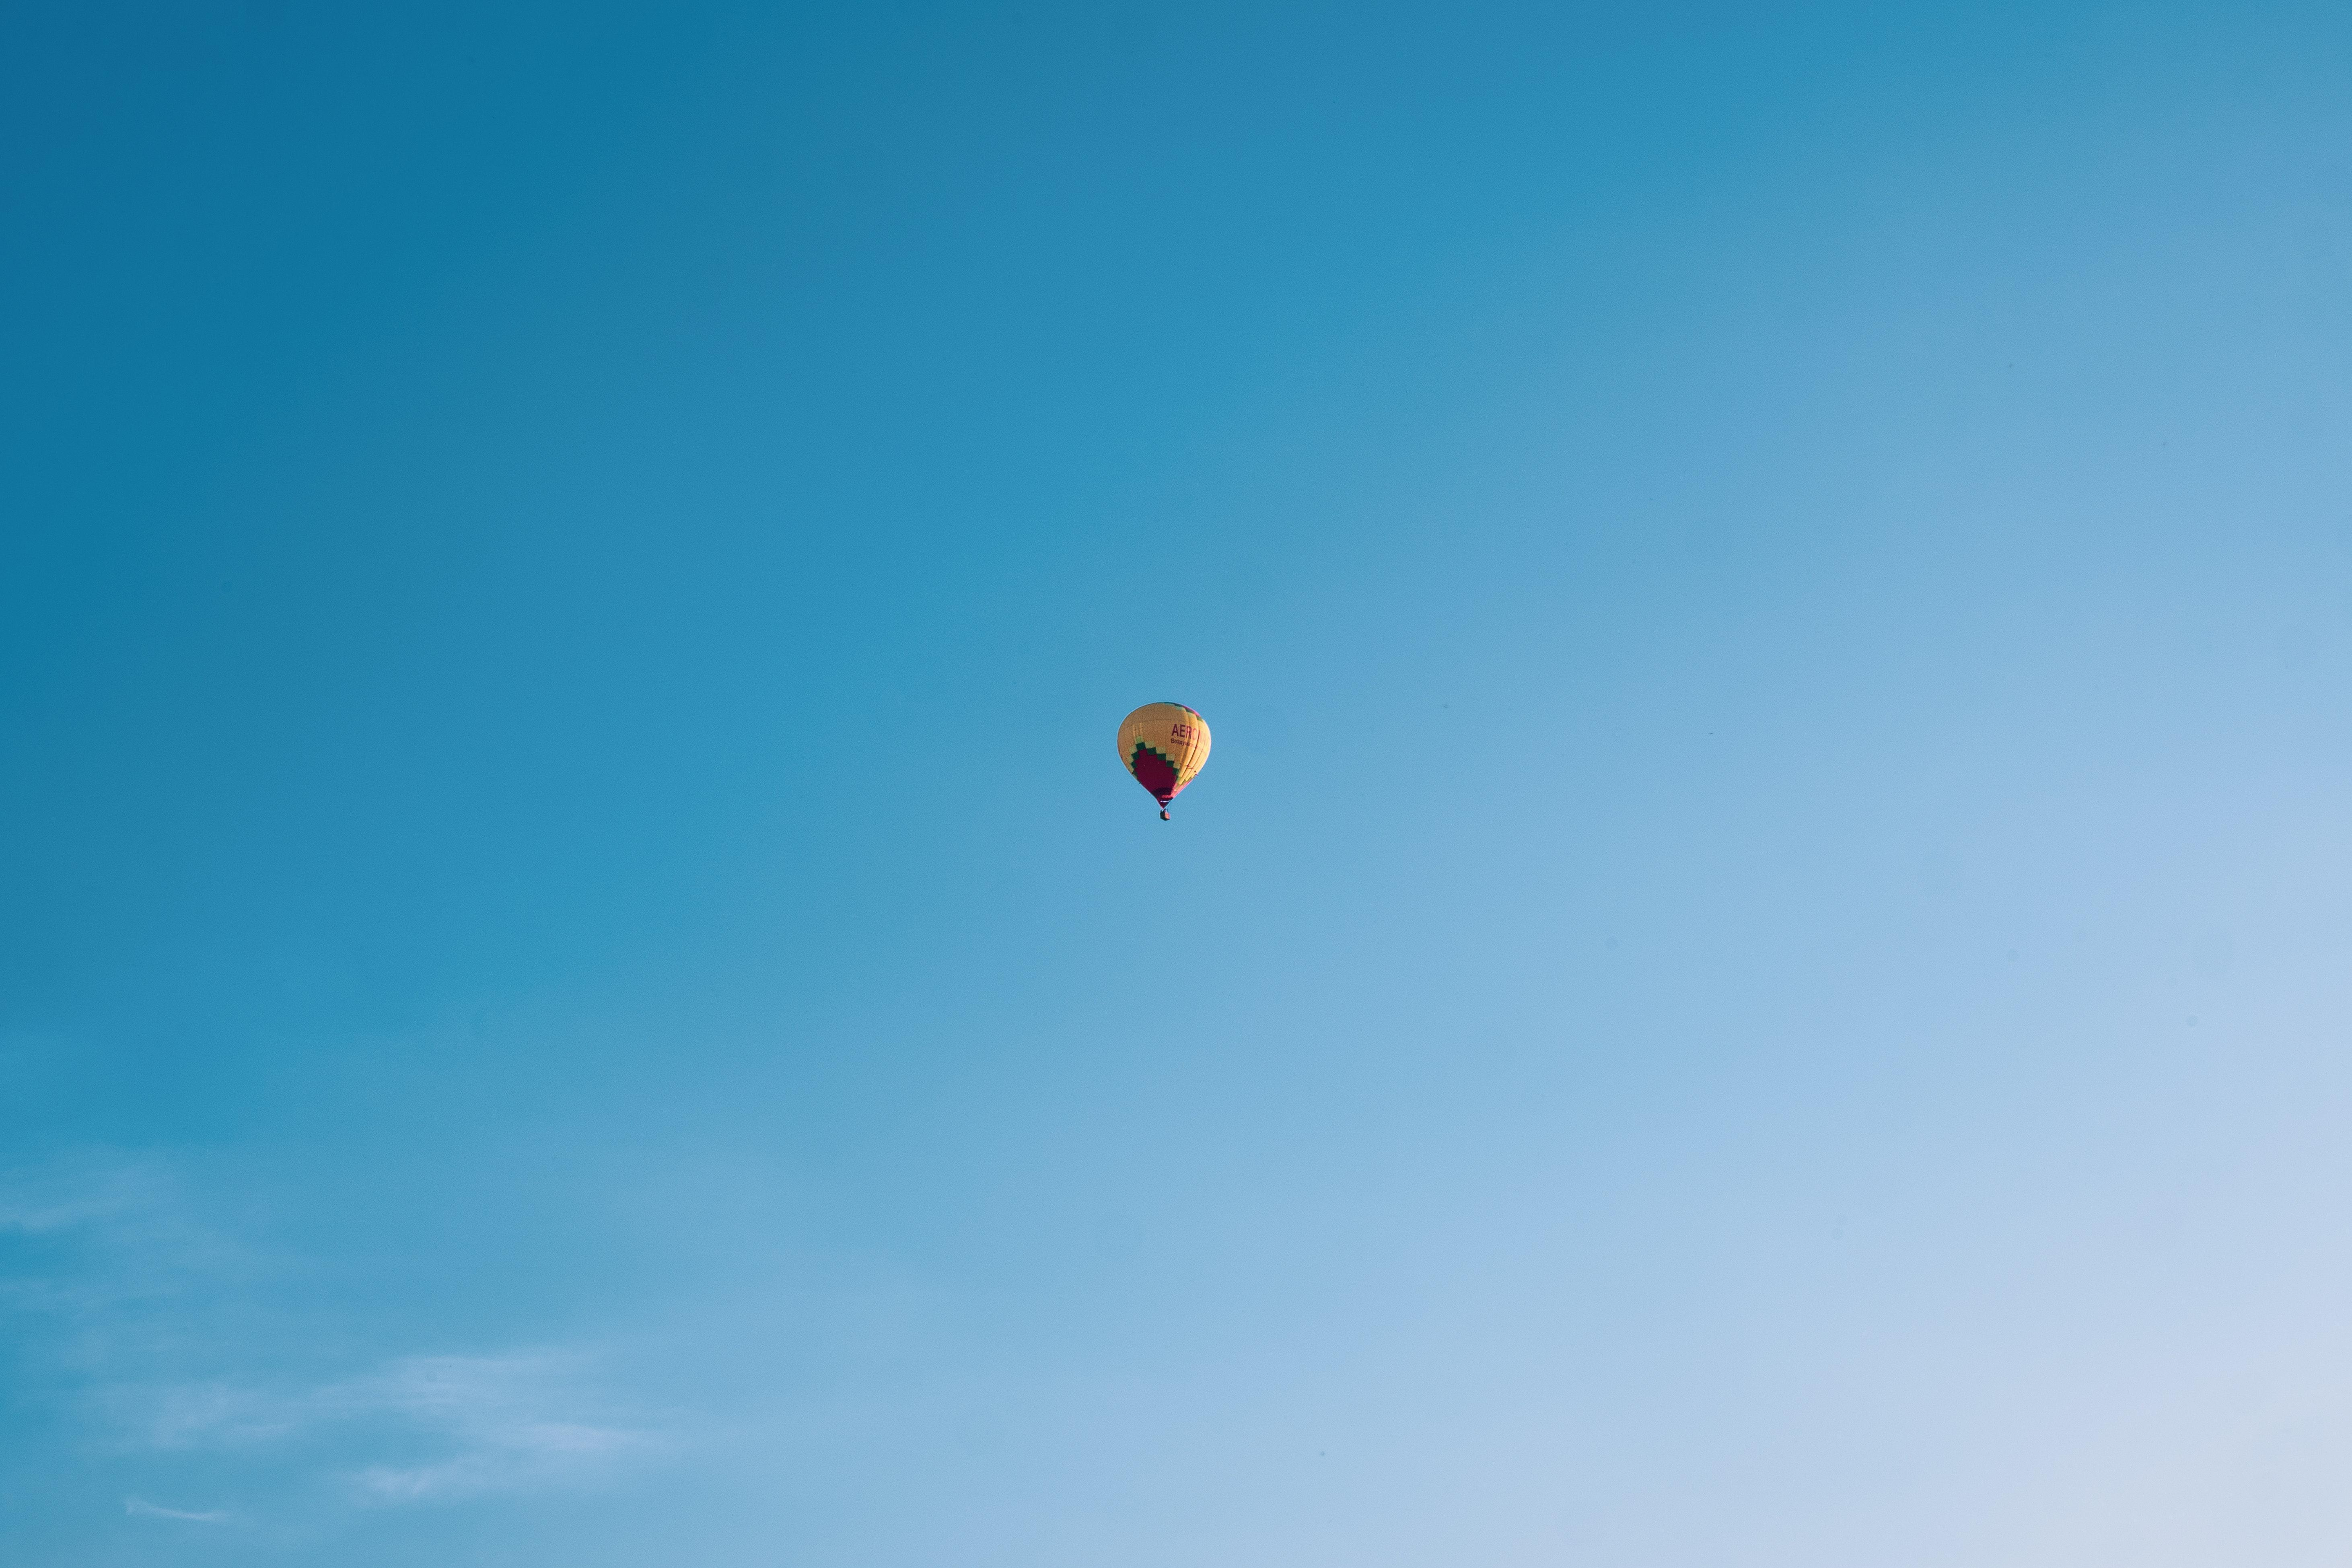hot air ballon: (1116, 702, 1212, 821)
